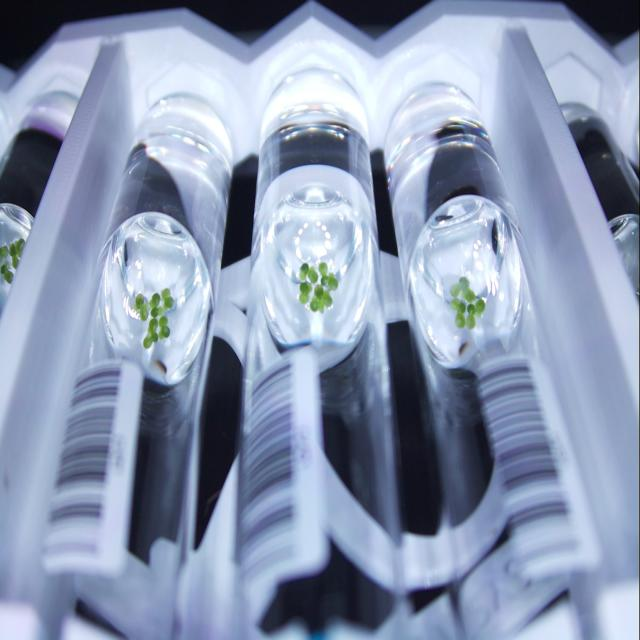Lemna-Gibba: (450, 277, 475, 302), (465, 299, 485, 329), (311, 285, 332, 312), (319, 262, 338, 290), (142, 319, 159, 349), (450, 299, 466, 327), (134, 294, 150, 320), (299, 264, 319, 284), (299, 280, 312, 304), (161, 289, 174, 311), (159, 315, 170, 338), (150, 294, 160, 316)
